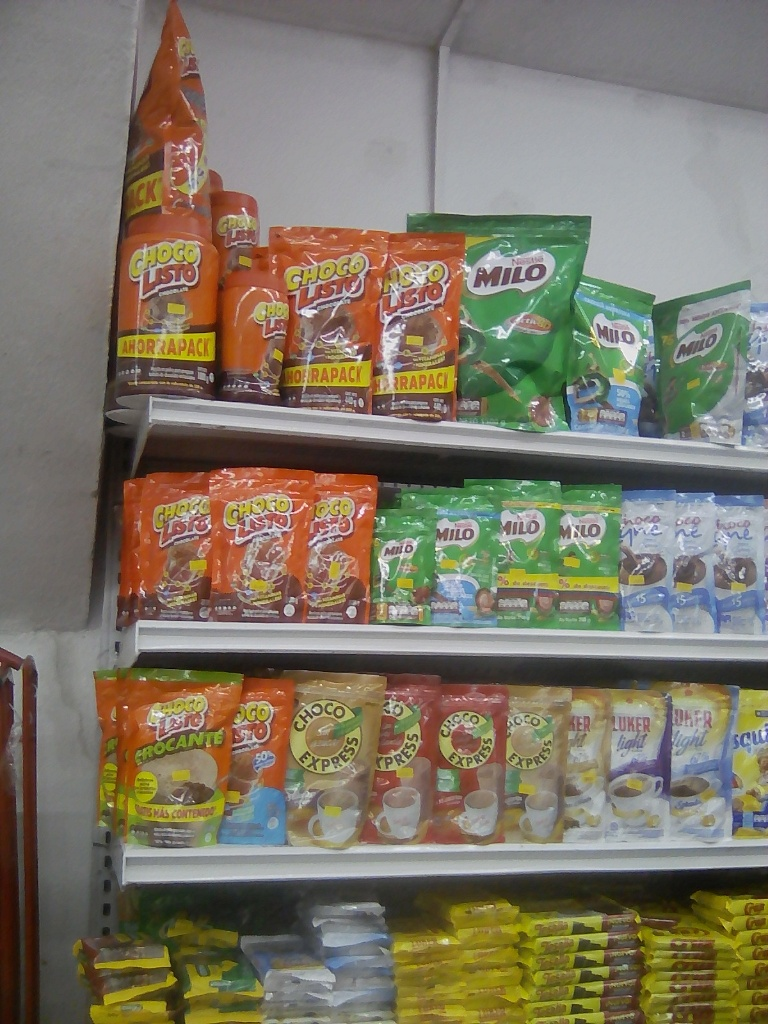COL0170102DYP25000: (113, 664, 236, 847)
COL0170103DYP20000: (144, 472, 214, 623)
COL0170103DYP44000: (274, 227, 386, 412)
COL0170103TRR00100: (117, 211, 220, 401)
COL0170103TRR30000: (222, 271, 290, 405)
COL0170104DYP20000: (222, 670, 295, 848)
COL0170203DYP10000: (377, 516, 435, 624)
COL0170203DYP25000: (561, 484, 627, 631)
COL0170203DYP50000: (441, 209, 590, 438)
COL0170205DYP20000: (427, 496, 502, 629)
